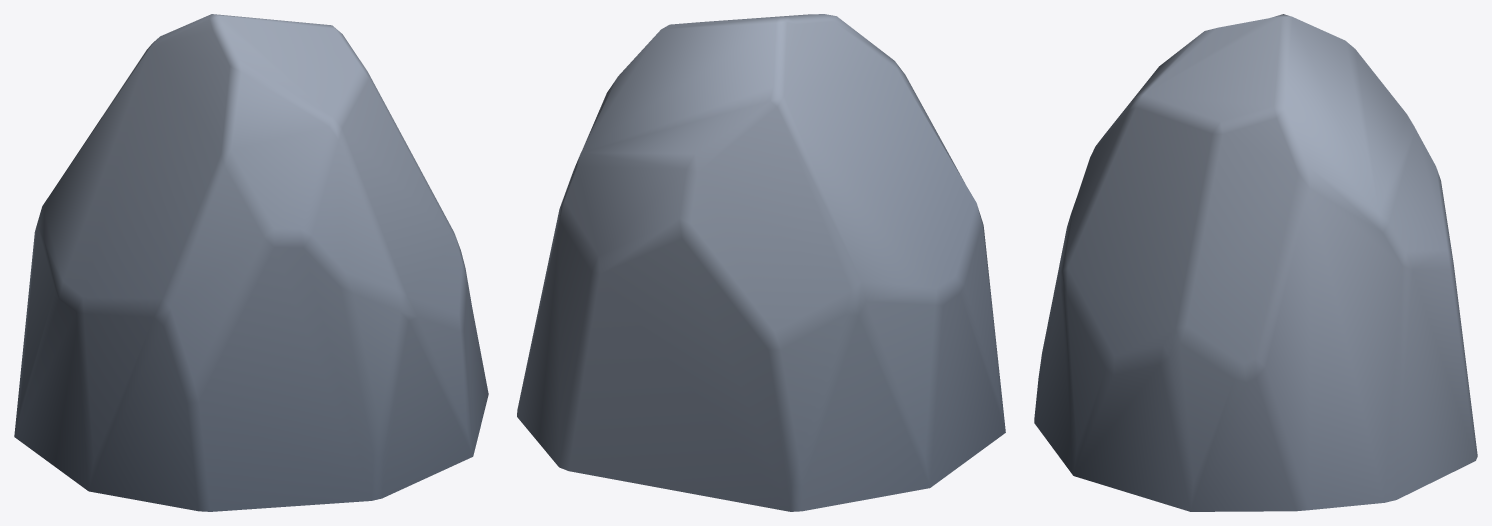
The model's file is Stone_lvl_05.fbx.
3 views of the same model, side by side, from view 1: azimuth 30°, elevation 25°; view 2: azimuth 150°, elevation 25°; view 3: azimuth 270°, elevation 25° (orthographic). The views are drawn at different scales.
Parts seen in each view (by area): view 1: Stone_lvl_05; view 2: Stone_lvl_05; view 3: Stone_lvl_05.
Part boxes in pixels (x1=…): Stone_lvl_05: x1=14, y1=14, x2=488, y2=511; Stone_lvl_05: x1=517, y1=14, x2=1005, y2=511; Stone_lvl_05: x1=1034, y1=14, x2=1477, y2=511.
Size of the model in its own units: 0.7346 by 0.7004 by 0.723.
